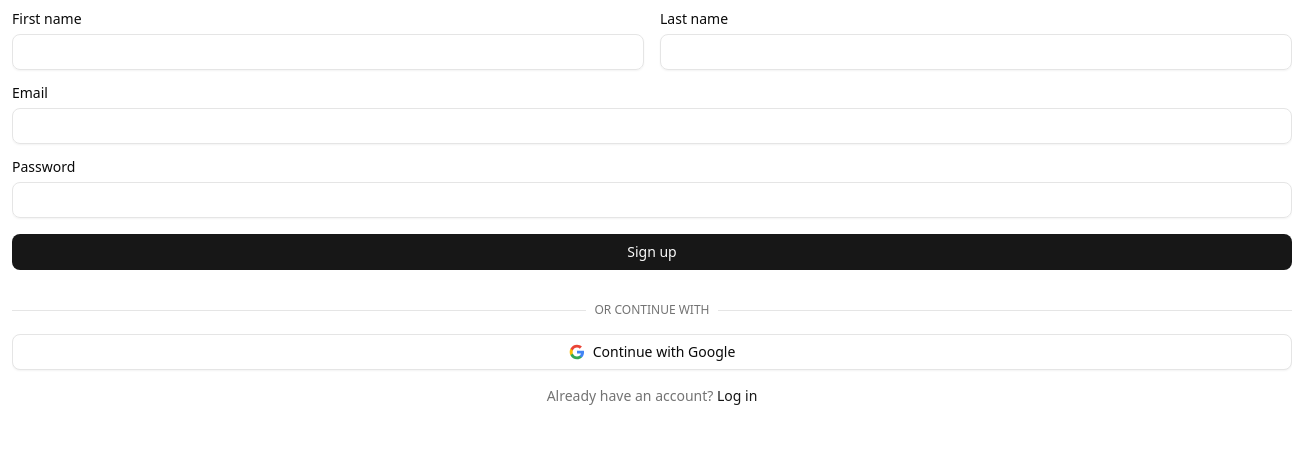
Test: RegisterForm › shows password validation error for short password
The width and height of the screenshot is (1304, 450).
Step 1. Type "New" into the field labelled "First name" → [328, 52], box [12,34,644,70]
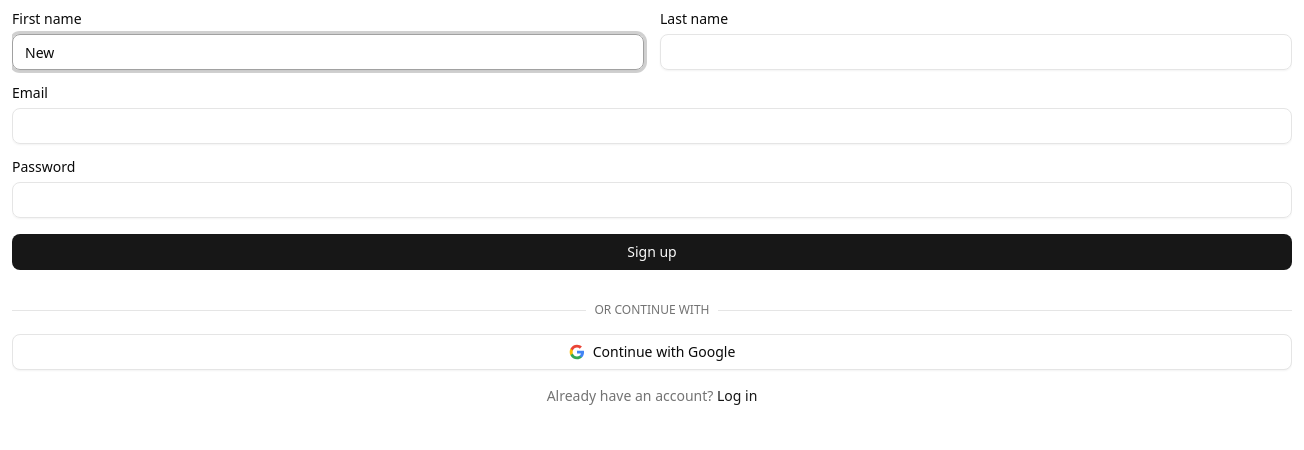
Step 2. Type "User" into the field labelled "Last name" → [976, 52], box [660,34,1292,70]
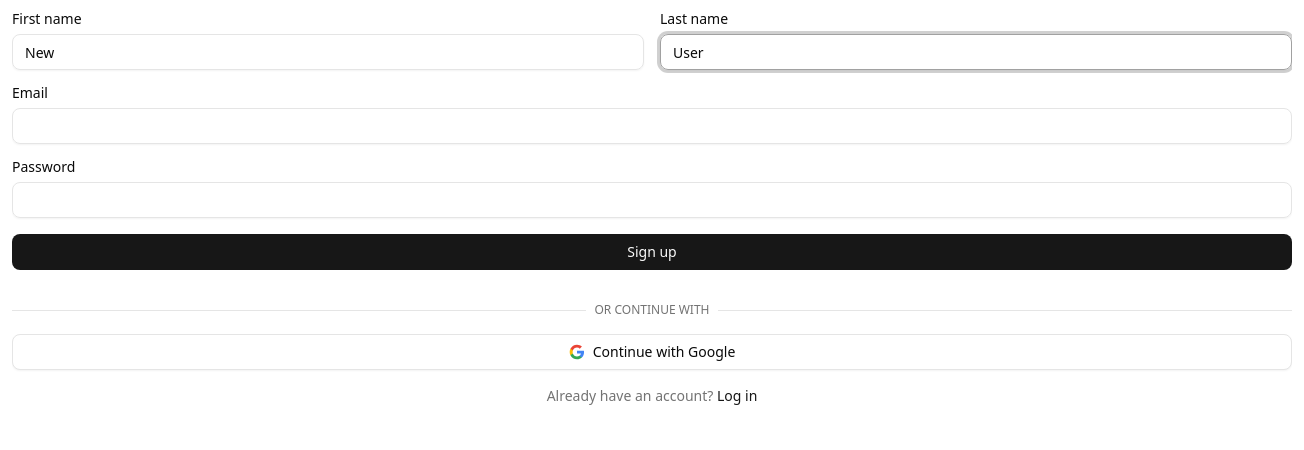
Step 3. Type "new@kpi.ua" into the field labelled "Email" → [652, 126], box [12,108,1292,144]
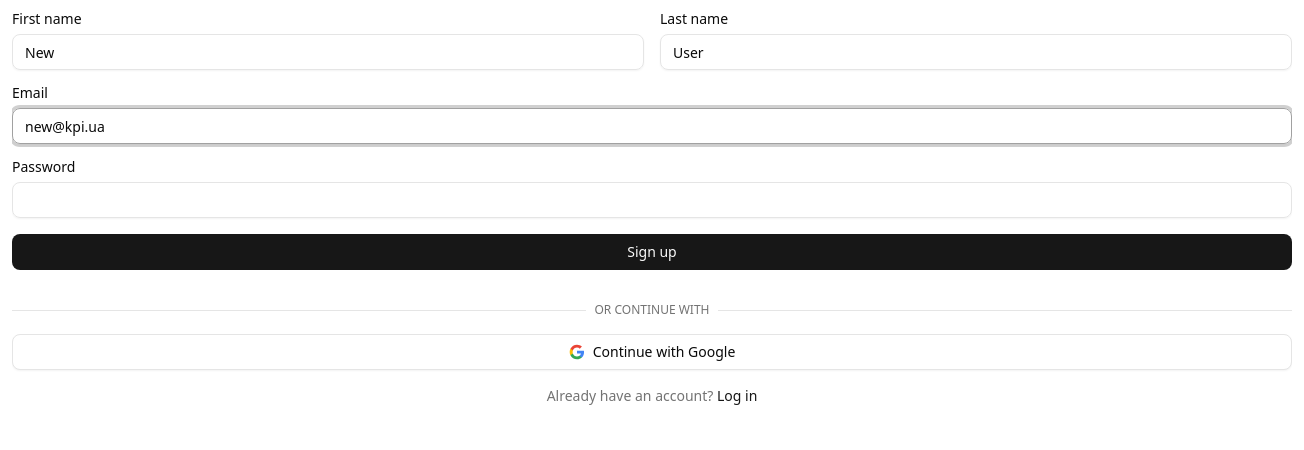
Step 4. Type "short" into the password field labelled "Password" → [652, 200], box [12,182,1292,218]
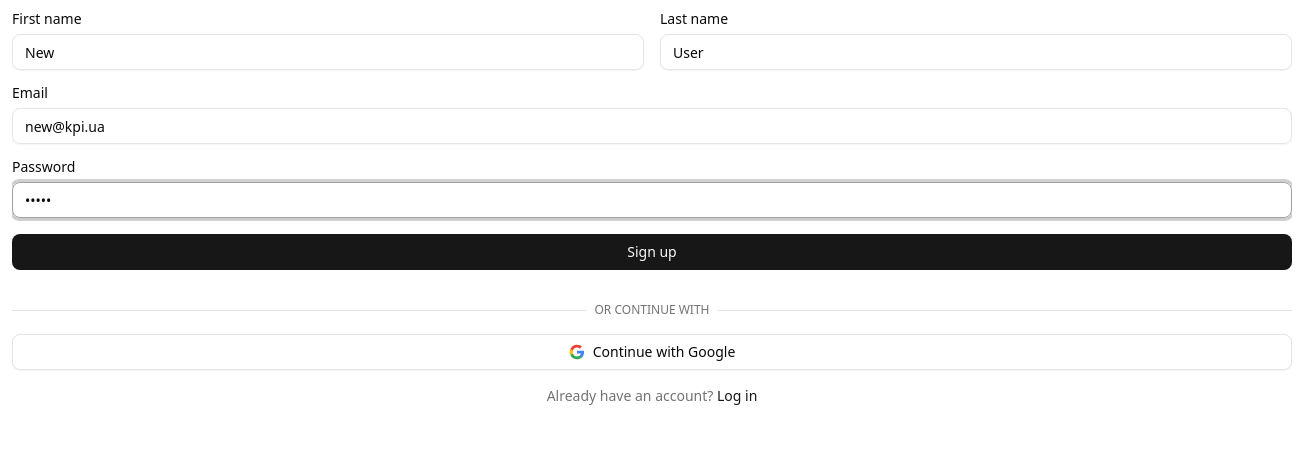
Step 5. Click the button "Sign up" → [652, 252], box [12,234,1292,270]
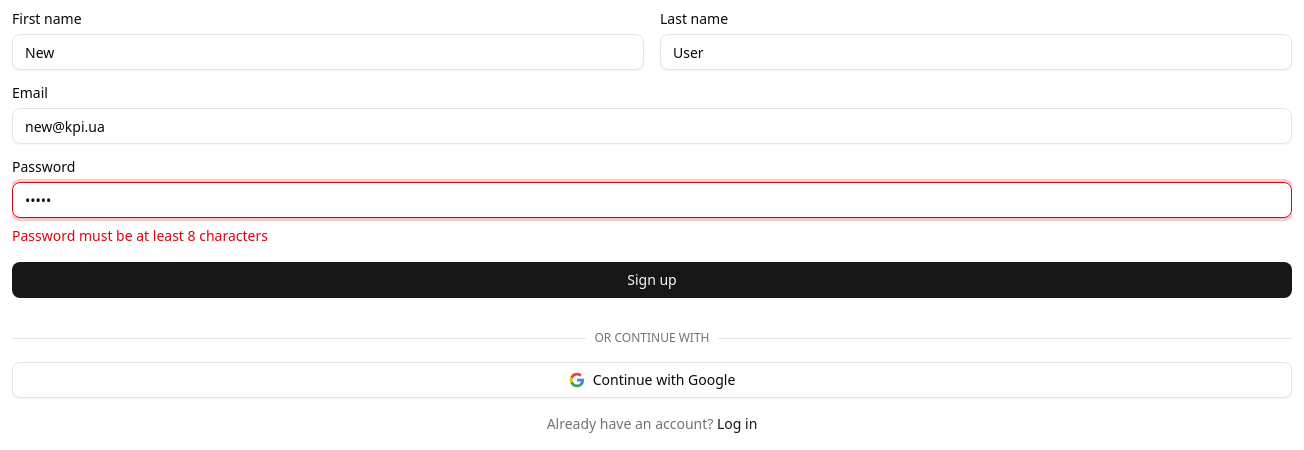
Result: the text "Password must be at least 8 characters" is shown at [12,226,268,245]
